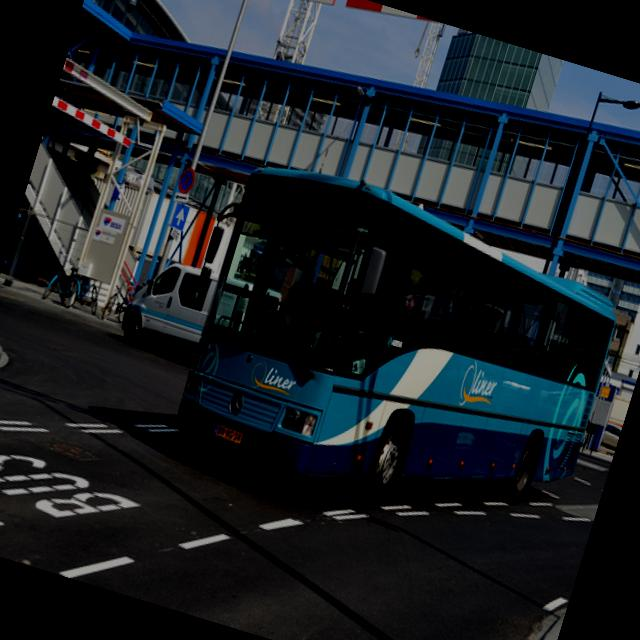Vehicle: (162, 147, 640, 568), (115, 248, 222, 365), (116, 251, 219, 363)
